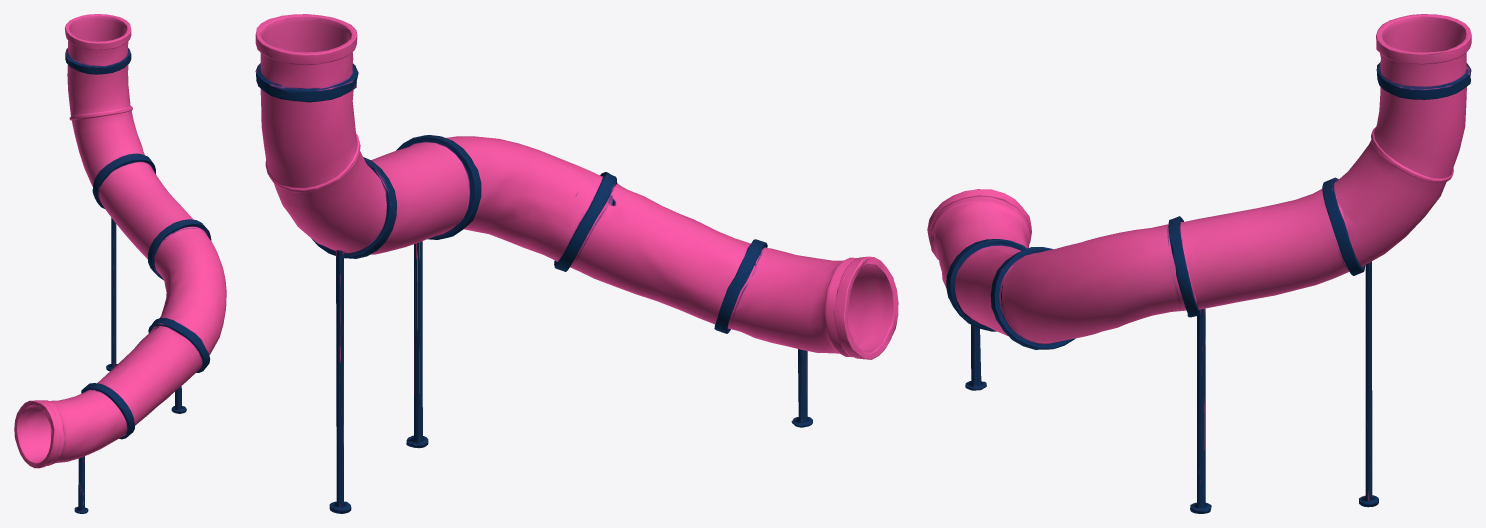
File: slide.glb
3 views of the same model, side by side, from view 1: azimuth 30°, elevation 25°; view 2: azimuth 150°, elevation 25°; view 3: azimuth 270°, elevation 25° (orthographic). The views are drawn at different scales.
Size of the model in its own units: 0.7324 by 0.9072 by 0.9438.
1 material, 1 textured.
